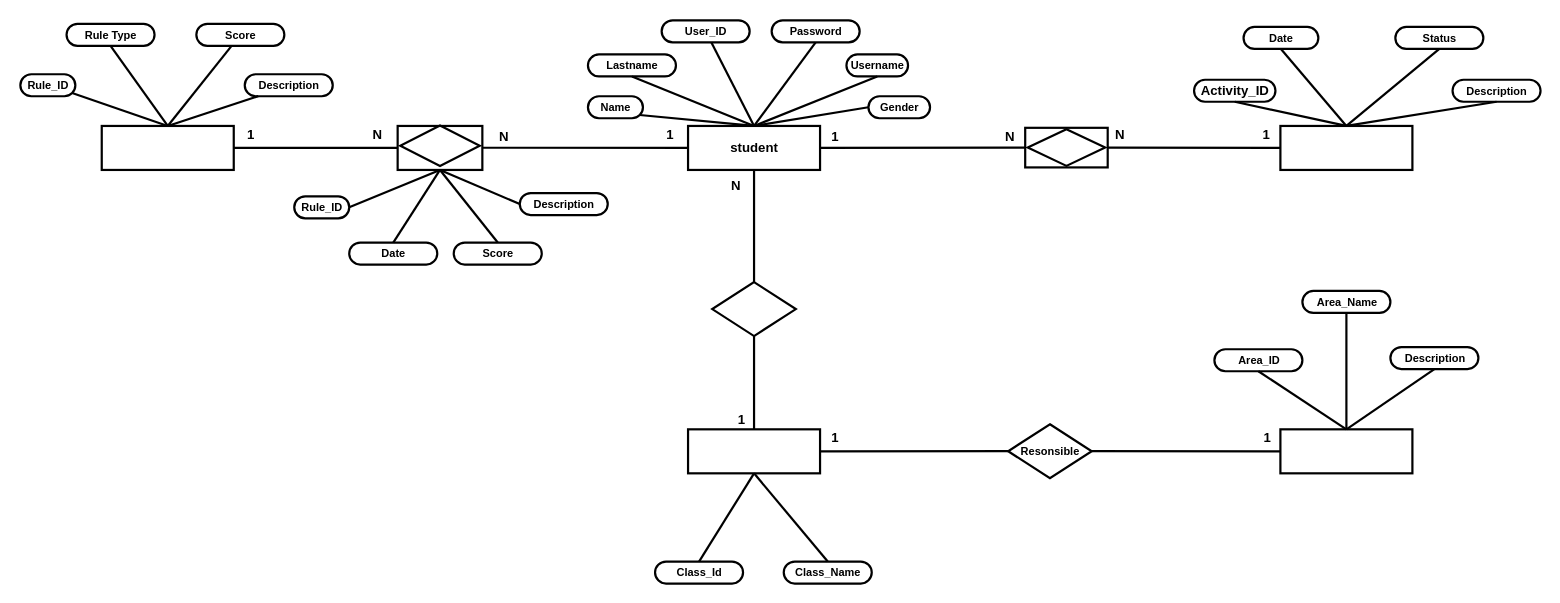
Image size: 1560x603. Some labels were removed from this diagram. The shapes that lost their labels are listed below. From the top down, each one's box as (x1, y1, x2, y2) in pixels, then its label:
(100, 124, 234, 170): Rule
(399, 124, 480, 167): IS_Rule
(1026, 128, 1106, 166): Is_Activity
(1279, 124, 1413, 170): Activity
(711, 280, 796, 337): Belong to
(686, 428, 821, 474): Class
(1279, 428, 1413, 474): Area
